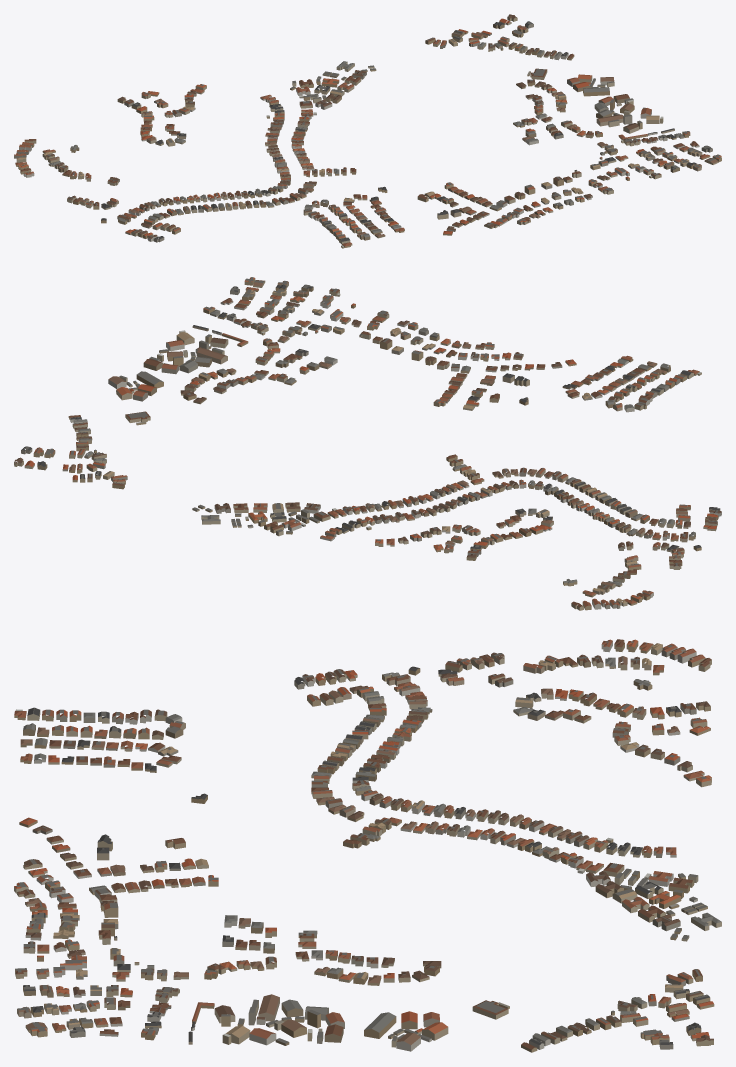
The picture shows the model from 3 angles, top to bottom: view 1: azimuth 30°, elevation 25°; view 2: azimuth 150°, elevation 25°; view 3: azimuth 270°, elevation 25°; orthographic projection. The views are drawn at different scales.
Parts seen in each view (by area): view 1: buildings_r6_c6_lod1; view 2: buildings_r6_c6_lod1; view 3: buildings_r6_c6_lod1.
Boxes of the visible parts, left/top/right/bottom form: buildings_r6_c6_lod1: left=14, top=14, right=721, bottom=248; buildings_r6_c6_lod1: left=14, top=277, right=721, bottom=610; buildings_r6_c6_lod1: left=14, top=639, right=721, bottom=1052.
Size of the model in its own units: 1146 by 79.56 by 807.
